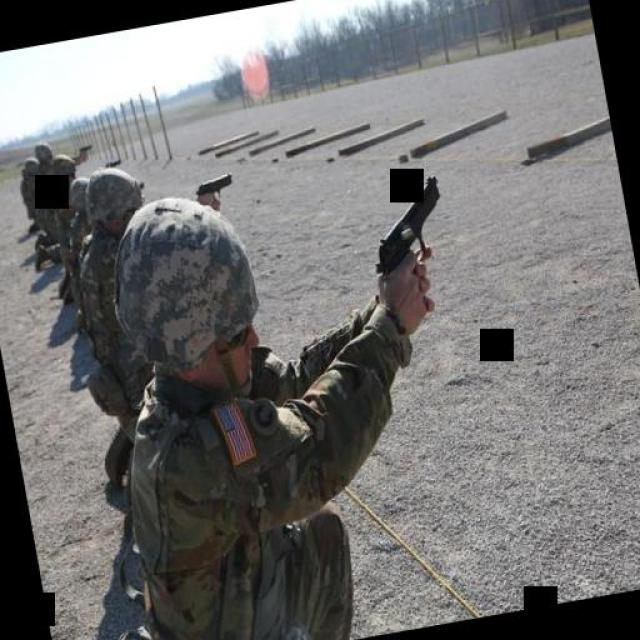gun: (358, 169, 458, 299), (190, 166, 239, 209), (99, 151, 122, 174), (75, 139, 93, 155)
